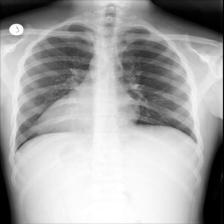normal: (8, 19, 203, 156)
